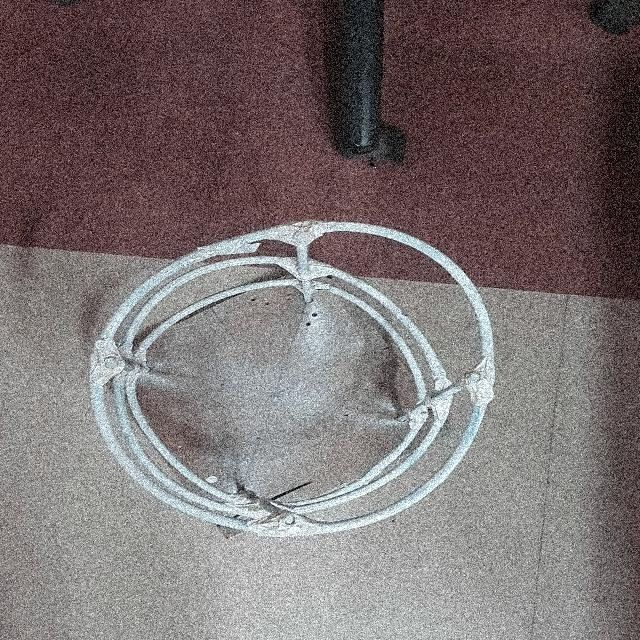silo: (89, 220, 493, 526)
